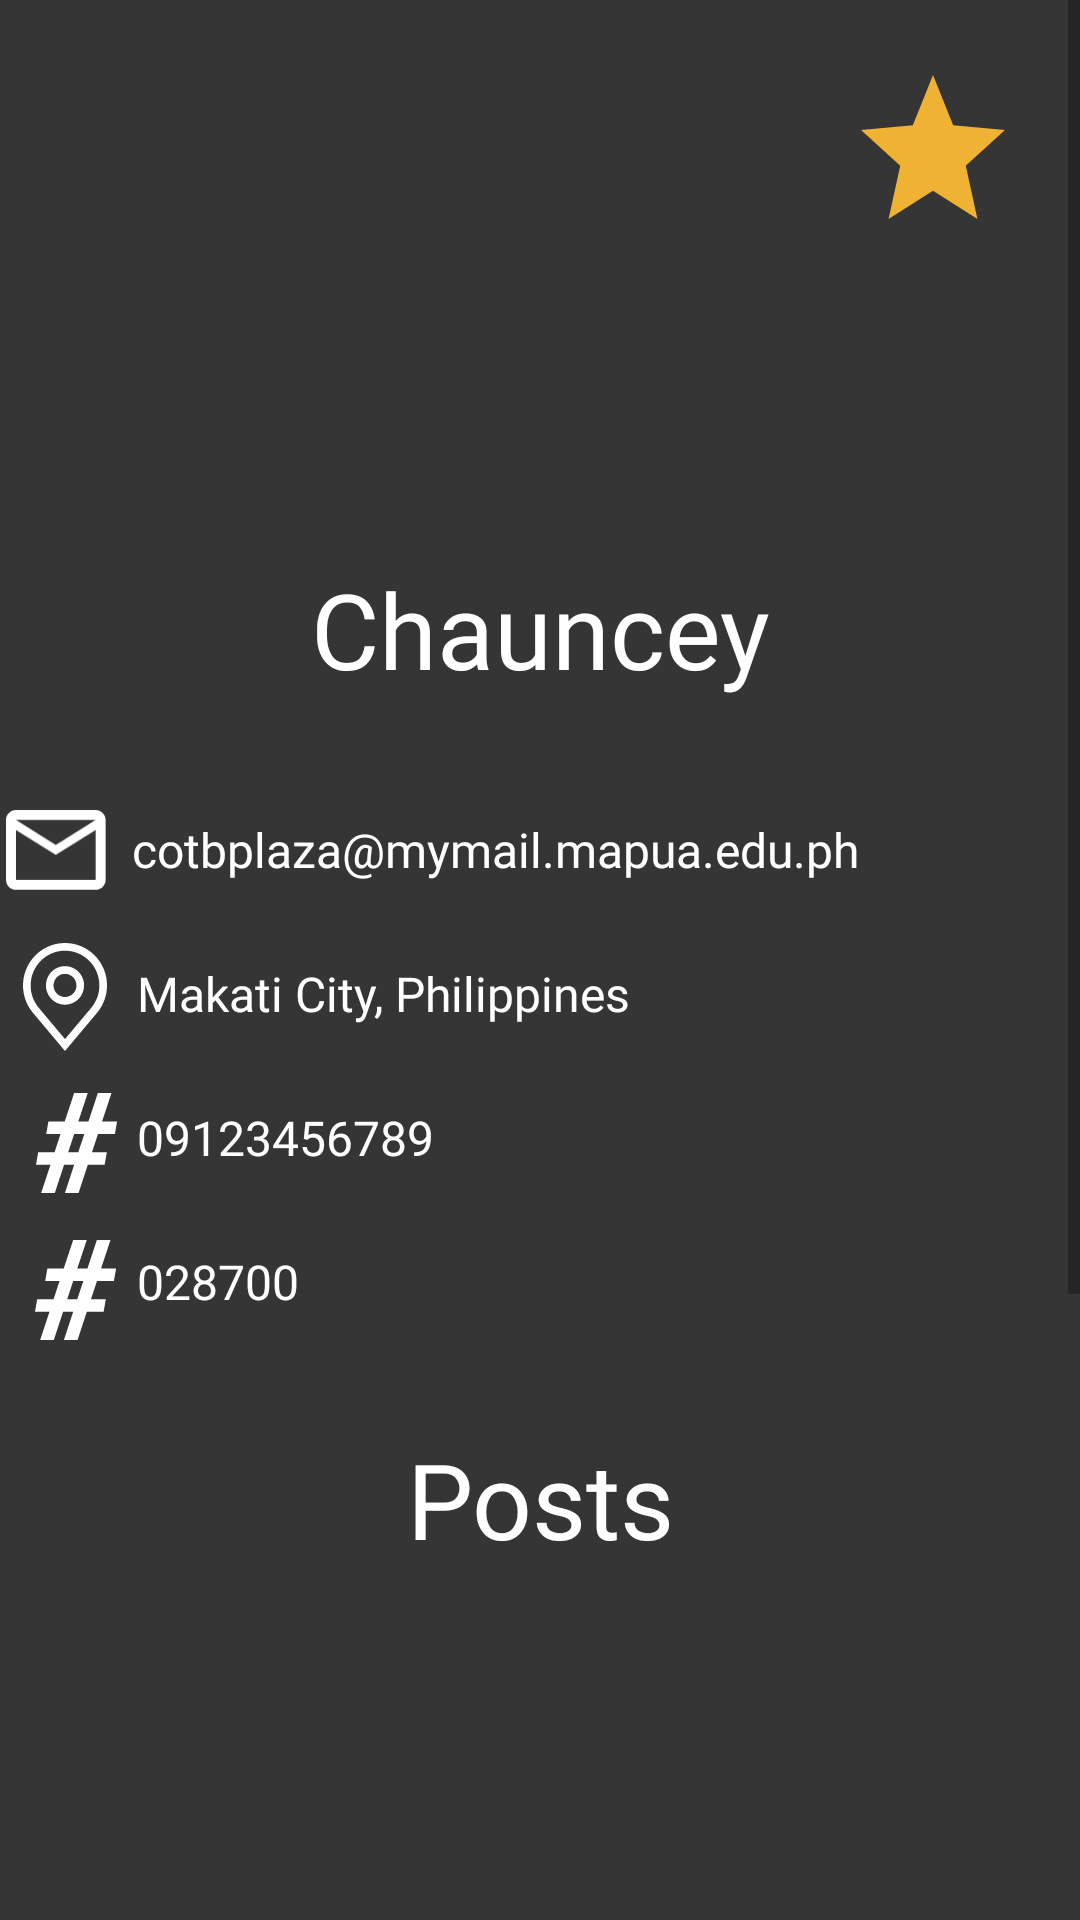

Screen size 1080px x 1920px. Icon name, then its center in pixels as (x=x, y=y):
hashtag: (x=76, y=1143), (x=75, y=1290)
location: (x=65, y=997)
star: (x=933, y=147)
